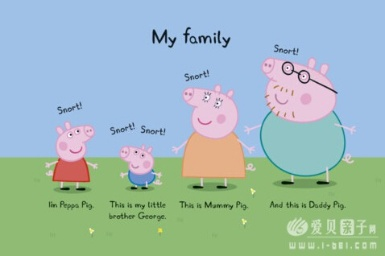Peppa: (45, 121, 99, 193)
